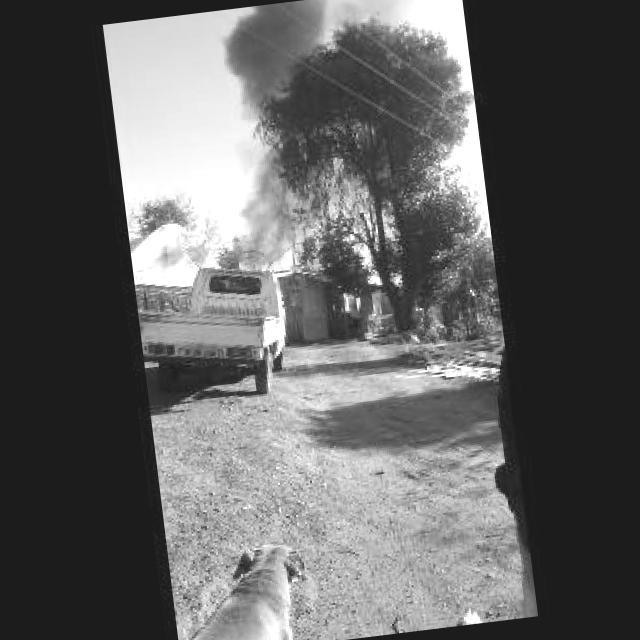Fire: (238, 150, 322, 276), (371, 294, 387, 325)
